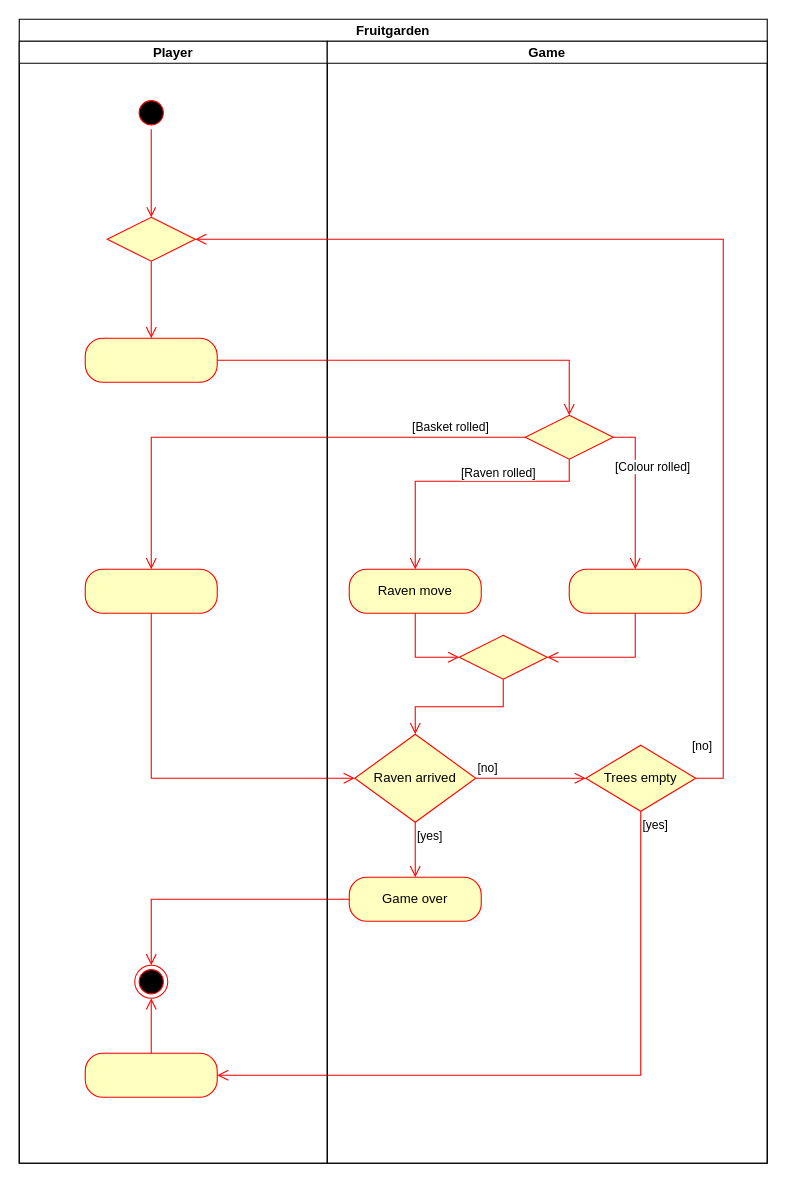
Some shapes in this 787 by 1183 pixel diagram are drawn without their labels. The centre of each missing label's shape, as x and y in pixels:
"Dice roll" goes at point (150, 359).
"Fruit remove" goes at point (634, 590).
"Fruit select" goes at point (150, 590).
"Game won" goes at point (150, 1074).
